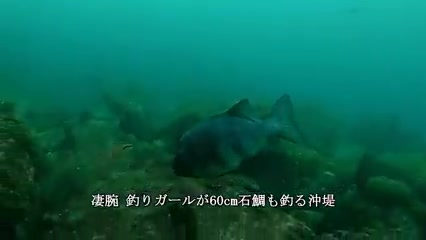smallfish: (160, 92, 301, 173)
